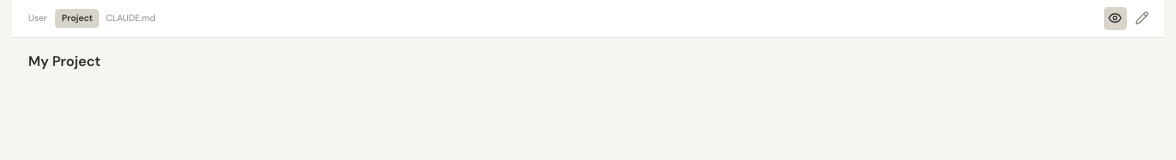
Test case: MemoryEditor › non-2xx save does NOT show Saved — shows error instead
Expected: the heading "My Project" is shown, [28,52,101,70]
// Switch to edit mode
Click the button named "Edit mode". click: (1142, 18)
box: [1130,6,1154,30]
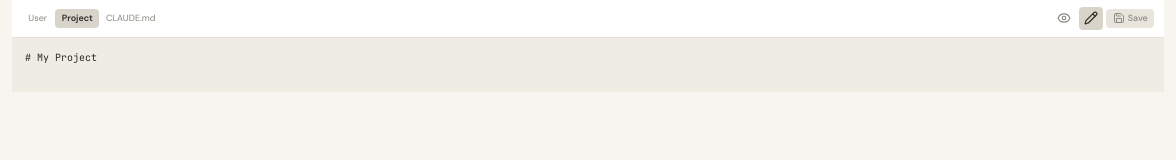
Result: the text box named "CLAUDE.md editor" is shown
// Make content dirty so Save button is enabled
Replace the text in the text box named "CLAUDE.md editor" with "# My Project Modified". click: (588, 65)
box: [12,38,1164,92]
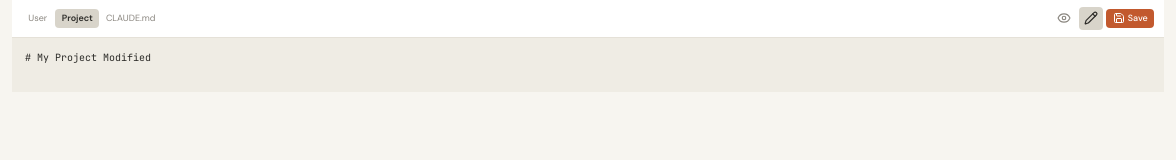
// Click Save
Click the button with aria-label "Save changes". click: (1130, 18)
box: [1106,9,1154,28]
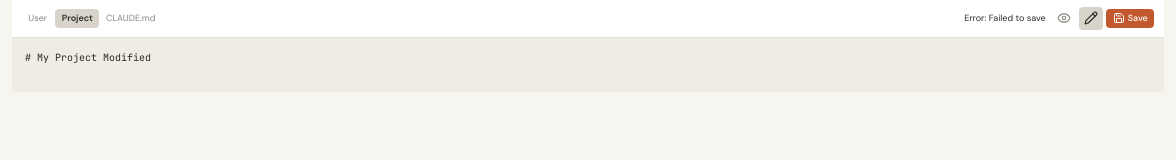
Result: the text "Error: Failed to save" is shown at [964,12,1046,24]
